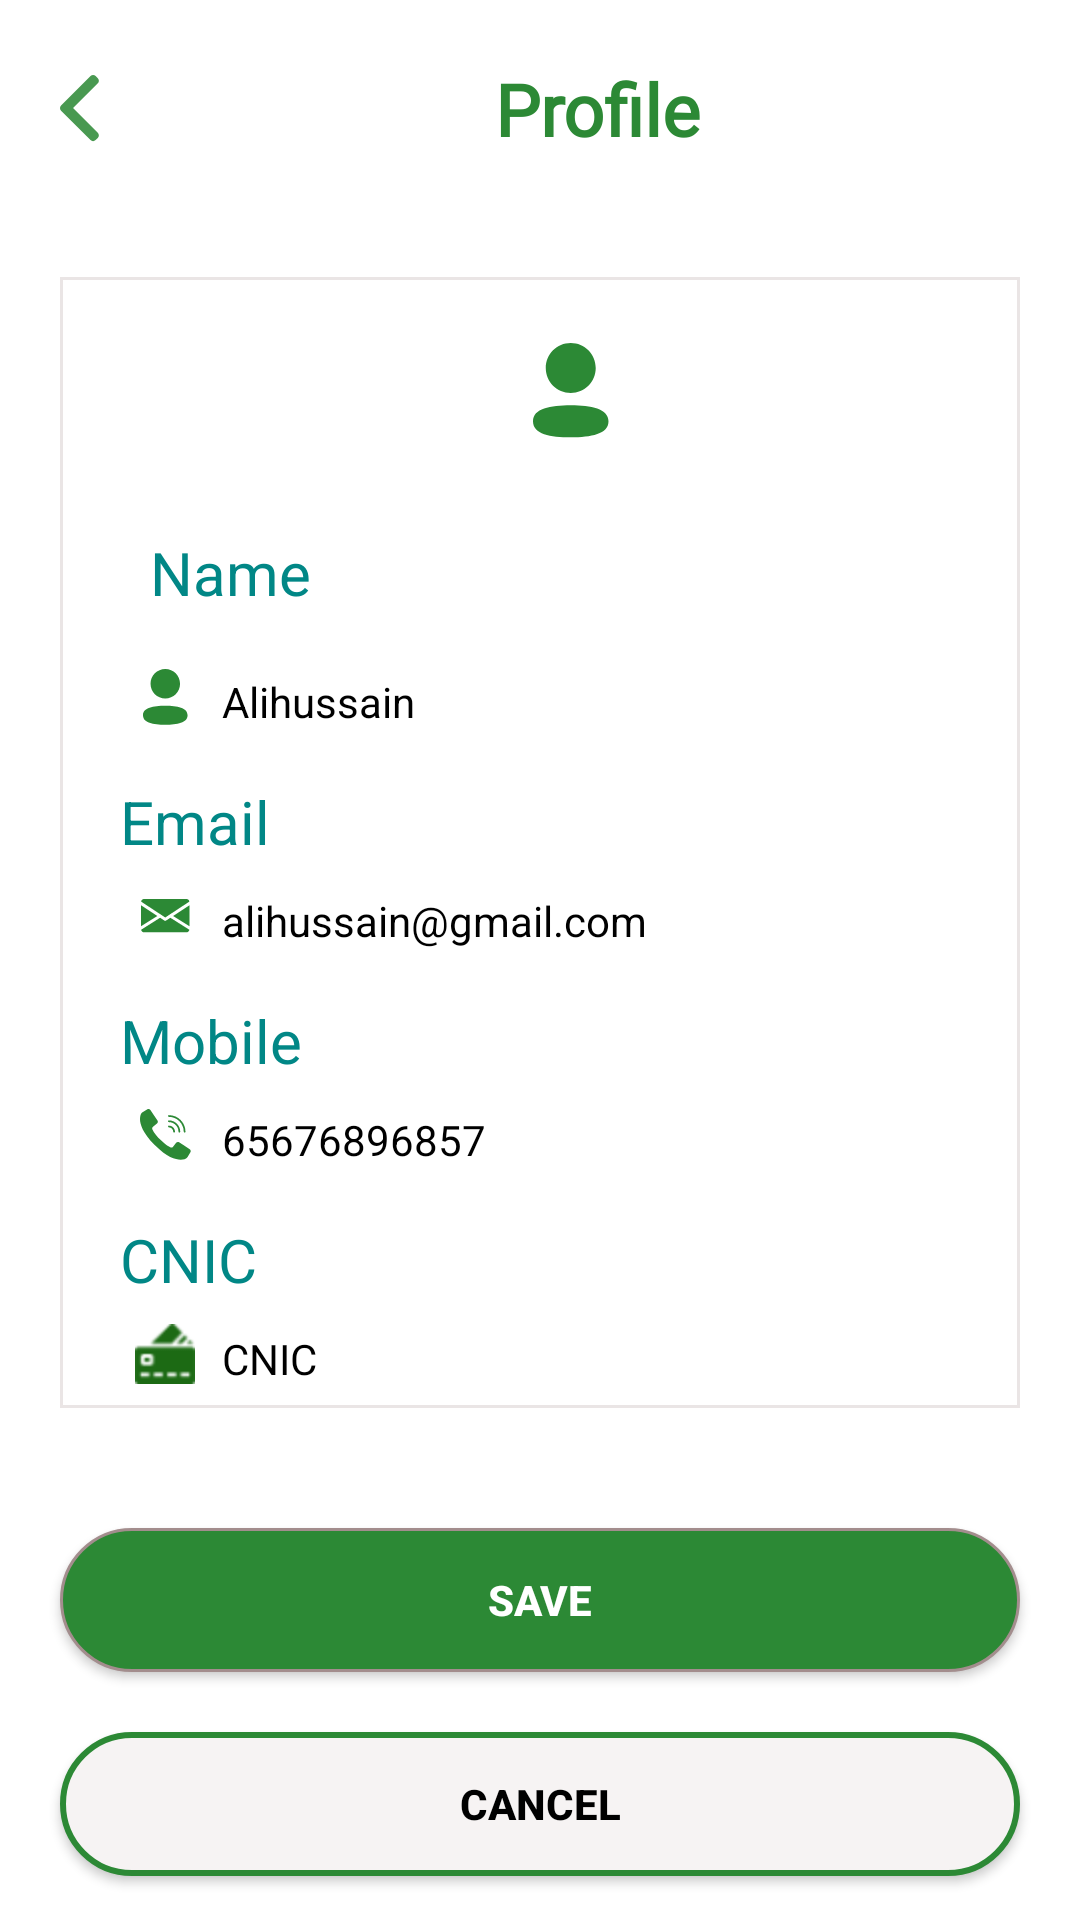

Named icons in this screenshot (1080 × 1920) and their centers, (x=x, y=y):
arrow: (x=79, y=108)
call: (x=165, y=1134)
credit: (x=165, y=1354)
